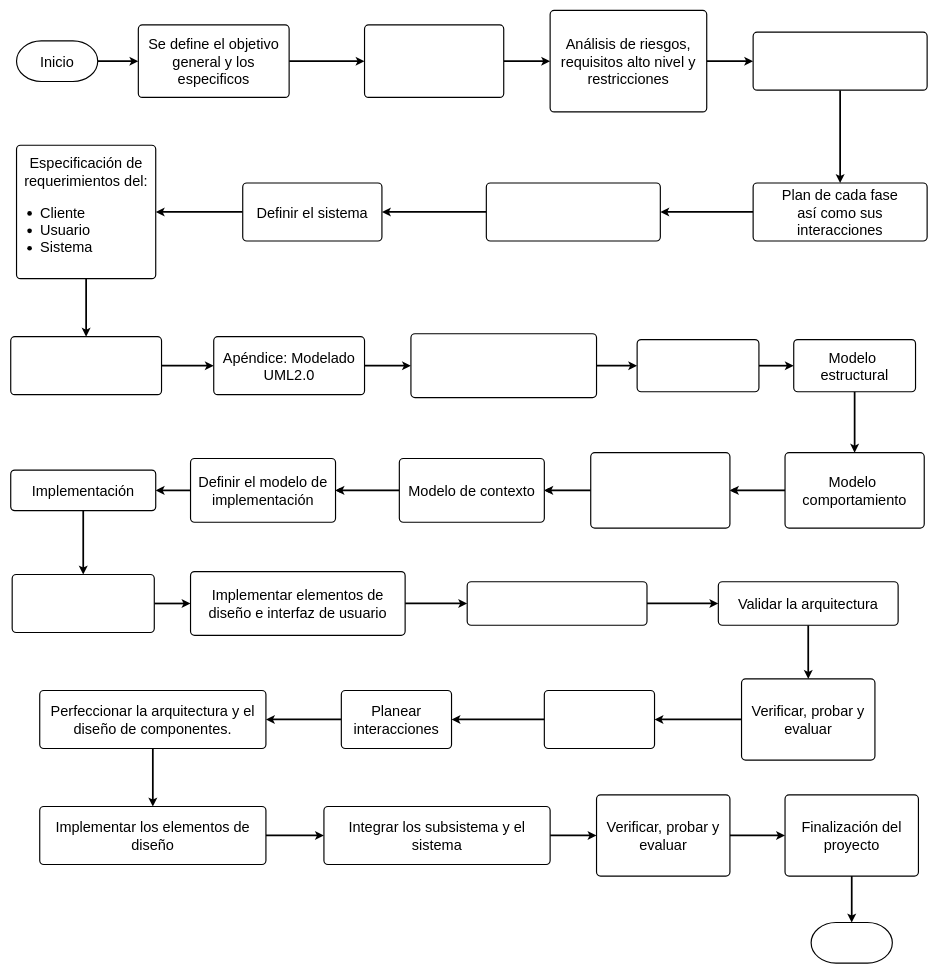
Image size: 937x974. Some labels were removed from this diagram. The centre of each missing label's shape, as x and y in pixels:
"Codificar componentes" goes at (x=556, y=603).
"Definir una arquitectura candidata" goes at (x=660, y=490).
"Diseñar componentes del sistema y subsistemas" goes at (x=503, y=365).
"Documentación de requisitos IEEE830" goes at (x=86, y=365).
"Fin" goes at (x=851, y=942).
"Formalizar el proyecto" goes at (x=573, y=211).
"Gestión del proyecto" goes at (x=599, y=719).
"Implementar componentes" goes at (x=83, y=603).
"Modelado de negocio" goes at (x=434, y=61).
"Modelo de desarrollo de software" goes at (x=839, y=60).
"Modelo de interacción" goes at (x=697, y=365).
